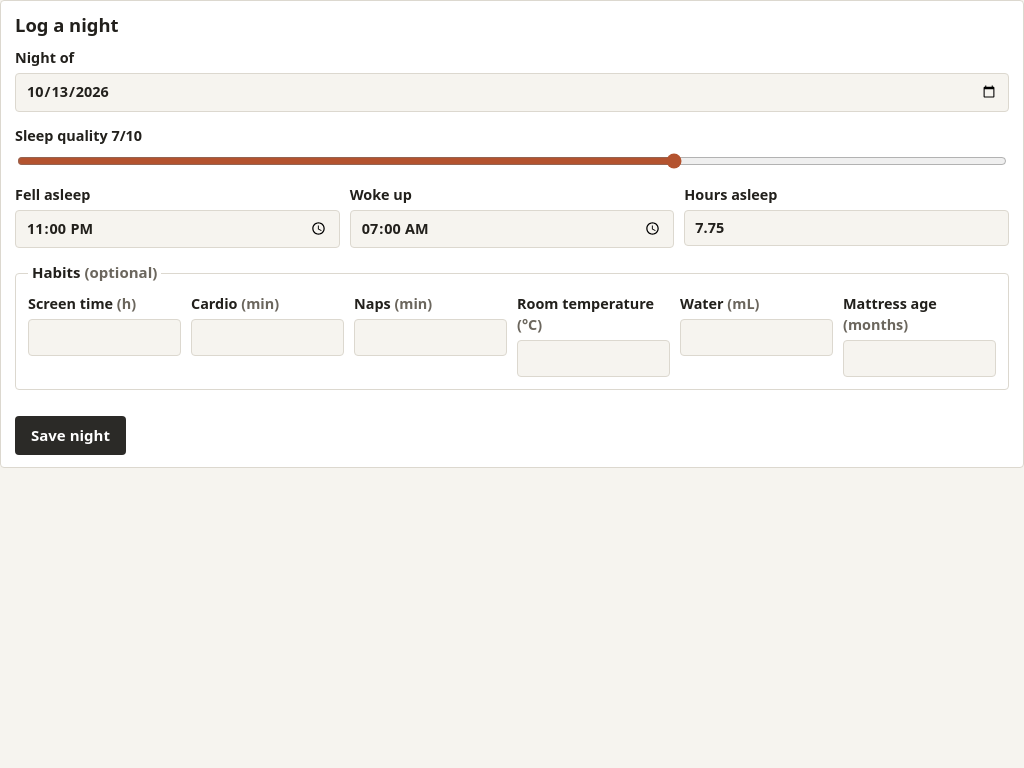
Test case: shows the server’s message for an invalid field
This screenshot has width=1024, height=768.
In the number field labelled "Water (mL)": [756, 337] box [680,319,833,356], type "30000"
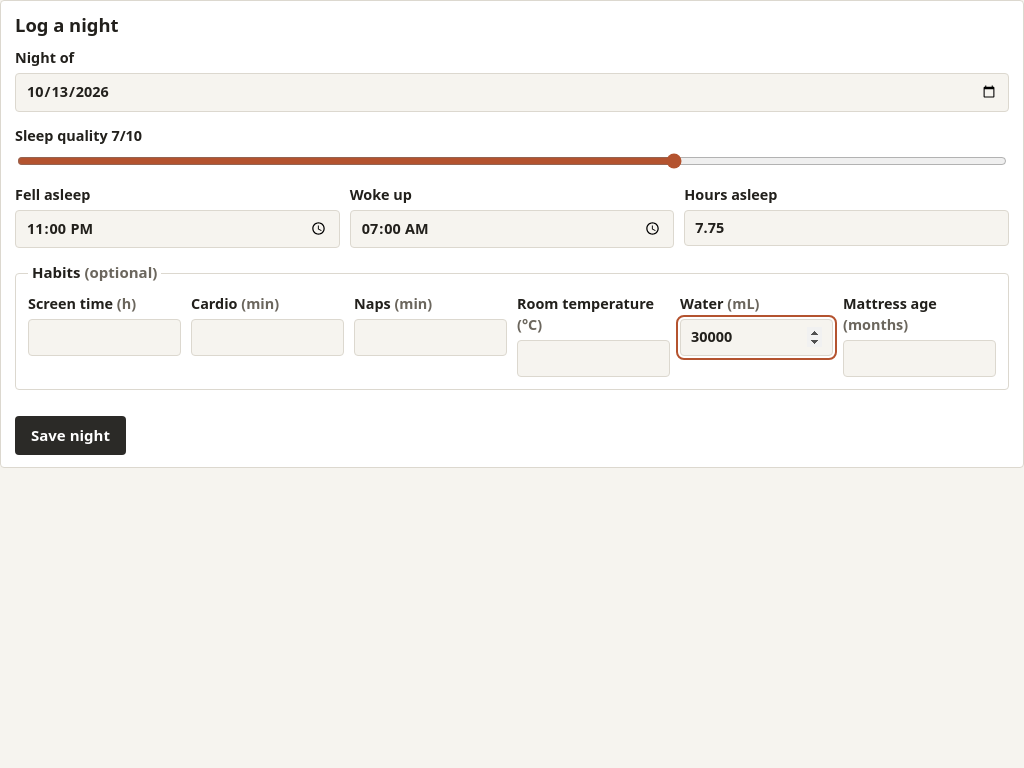
Click the button "Save night": [70, 436] box [15,416,126,456]
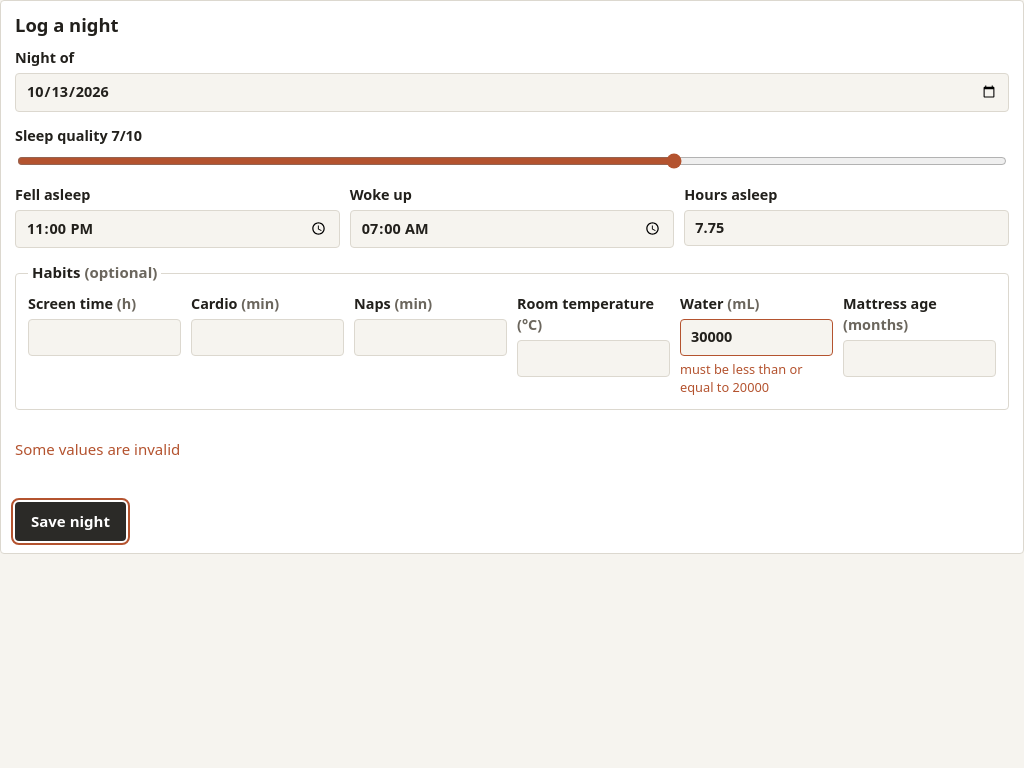
Now the text "must be less than or equal to 20000" is shown, box [680,360,802,396]
